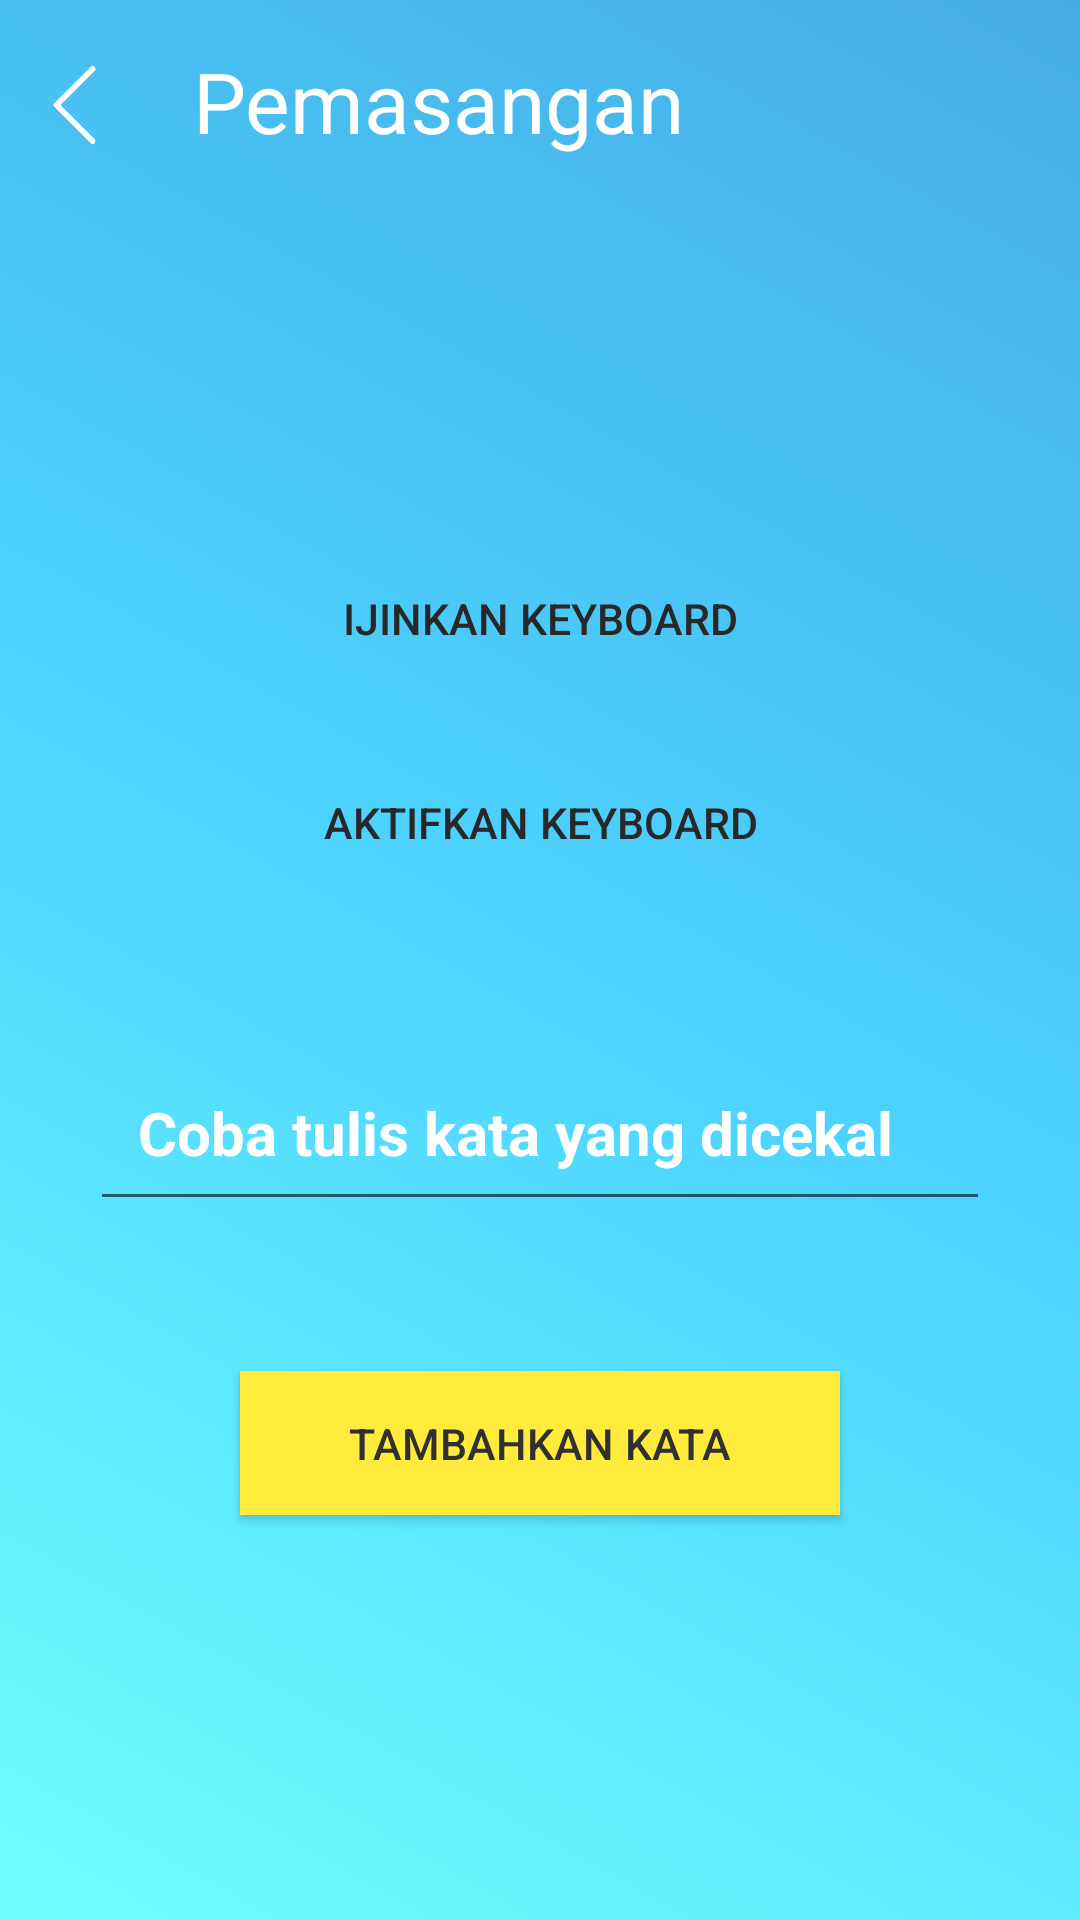

Icons on this 1080 × 1920 Android screen, each with its box as (x1, y1, x2, y2):
arrows: (53, 66, 96, 144)
